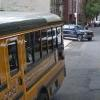buses: (0, 10, 66, 99)
